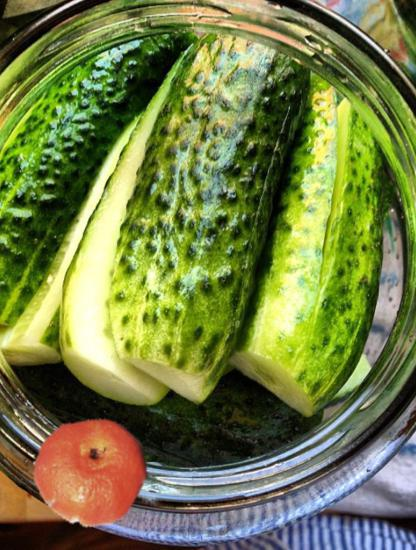Clementine: (33, 412, 152, 531)
